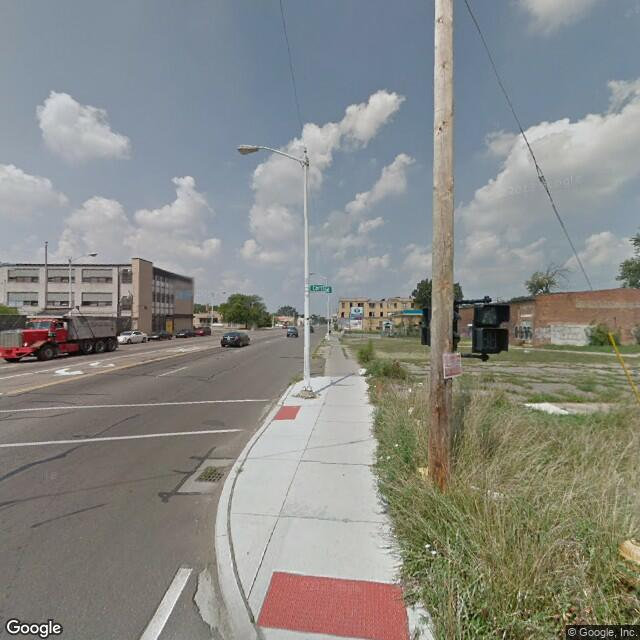litter: (354, 368, 368, 376)
